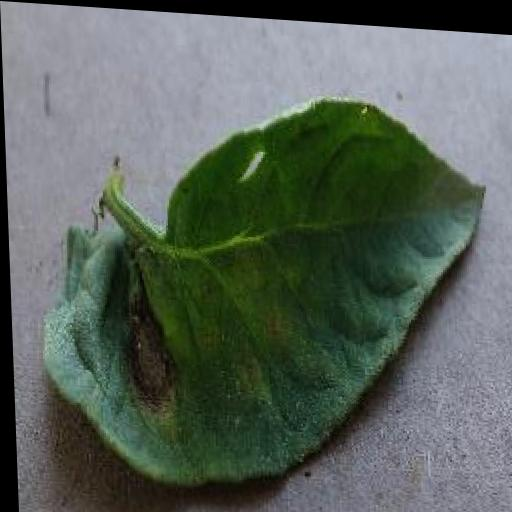Early Blight: (33, 80, 495, 501)
